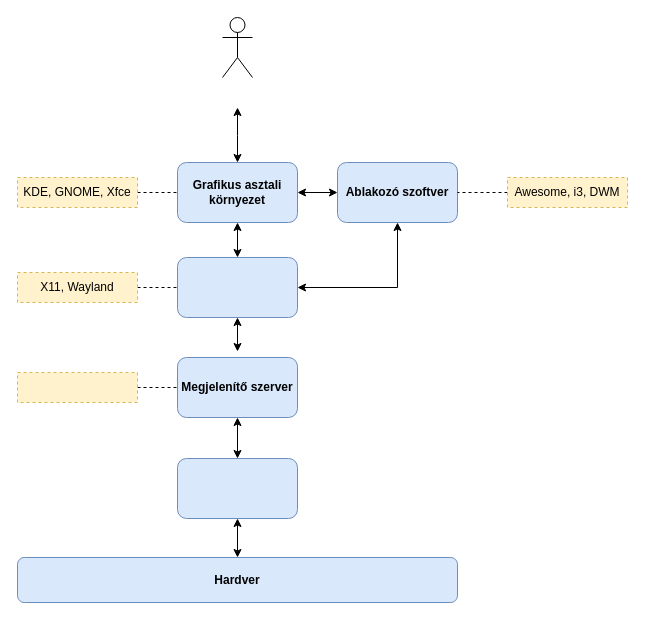
This 645x620 diagram has some shape labels left out. The shapes that lost their labels are listed below. From the top down, each one's box as (x1, y1, x2, y2) in pixels, then its label:
(222, 16, 252, 78): Felhasználó
(176, 256, 298, 318): Megjelenítő protokoll
(16, 372, 138, 402): X.Org, Wayland server
(176, 458, 298, 518): Kernel
